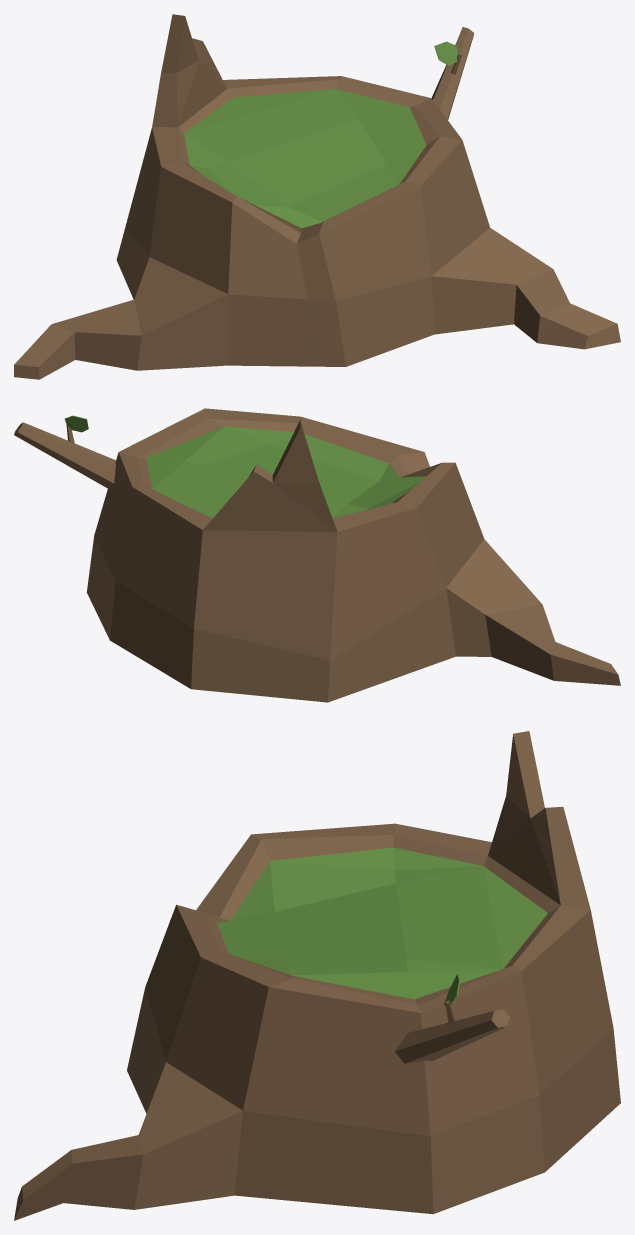
File: wood_treestump_moss.glb
The picture shows the model from 3 angles, top to bottom: view 1: azimuth 30°, elevation 25°; view 2: azimuth 150°, elevation 25°; view 3: azimuth 270°, elevation 25°; orthographic projection. The views are drawn at different scales.
Visible parts, largest first — view 1: TreeStump_Moss_Cylinder.010; view 2: TreeStump_Moss_Cylinder.010; view 3: TreeStump_Moss_Cylinder.010.
Boxes of the visible parts, <box> form: TreeStump_Moss_Cylinder.010: <box>14,14,620,379</box>; TreeStump_Moss_Cylinder.010: <box>14,408,620,702</box>; TreeStump_Moss_Cylinder.010: <box>14,731,620,1220</box>.
Bounding box in the file's own units: 1.75 × 0.8 × 1.33.
